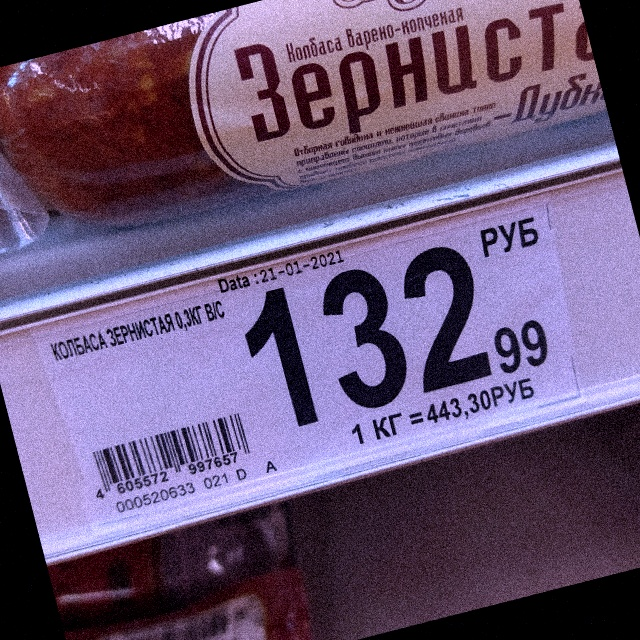barcode: (90, 413, 254, 503)
name: (49, 299, 226, 364)
price: (235, 243, 552, 434)
price_tag: (37, 196, 584, 523)
